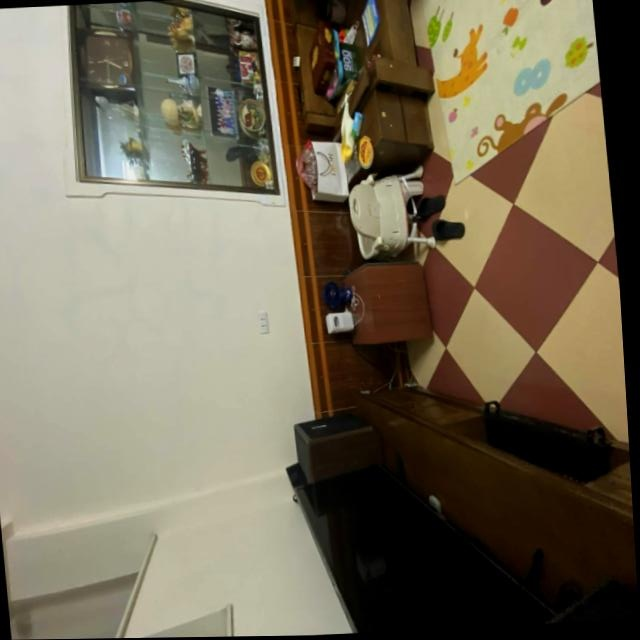outlet: (257, 312, 269, 335)
